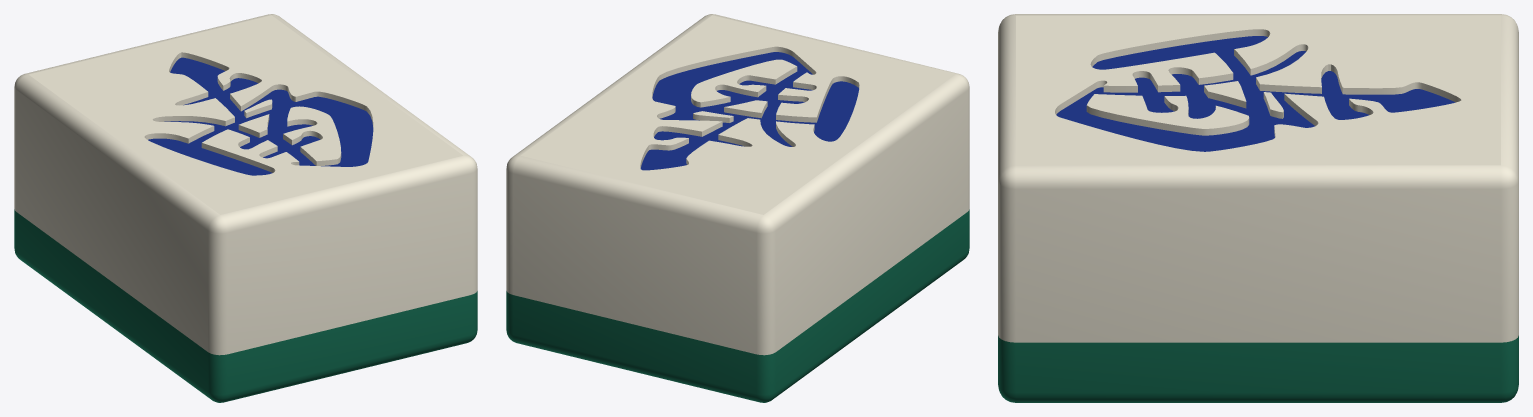
File: Nan.glb
3 views of the same model, side by side, from view 1: azimuth 30°, elevation 25°; view 2: azimuth 150°, elevation 25°; view 3: azimuth 270°, elevation 25° (orthographic). The views are drawn at different scales.
Parts seen in each view (by area): view 1: Nan_body, Nan_inset; view 2: Nan_body, Nan_inset; view 3: Nan_body, Nan_inset.
Boxes of the visible parts, left/top/right/bottom form: Nan_body: left=14, top=14, right=477, bottom=402; Nan_inset: left=148, top=57, right=373, bottom=175; Nan_body: left=506, top=14, right=969, bottom=402; Nan_inset: left=640, top=52, right=859, bottom=170; Nan_body: left=998, top=14, right=1518, bottom=402; Nan_inset: left=1056, top=36, right=1455, bottom=151.
Size of the model in its own units: 0.024 by 0.016 by 0.032.
